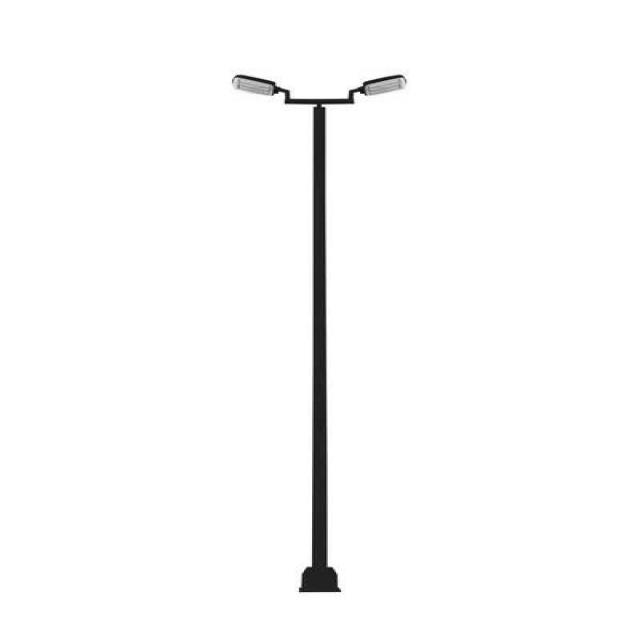Pole: (232, 74, 406, 594)
